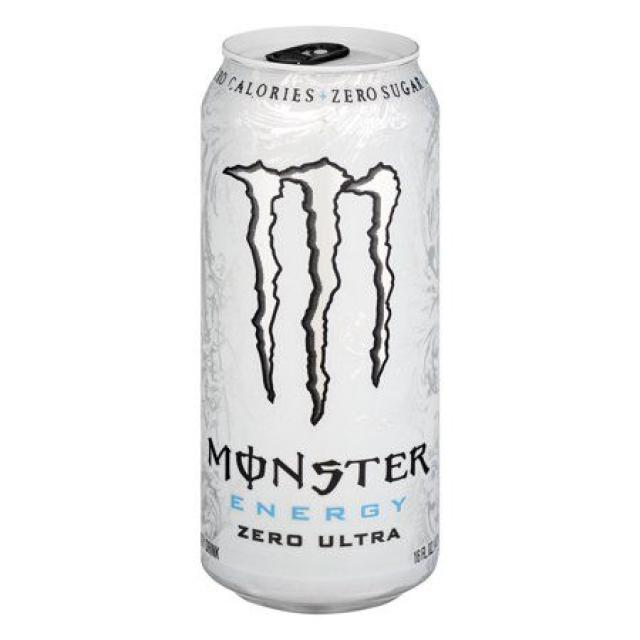Cans: (197, 13, 448, 617)
